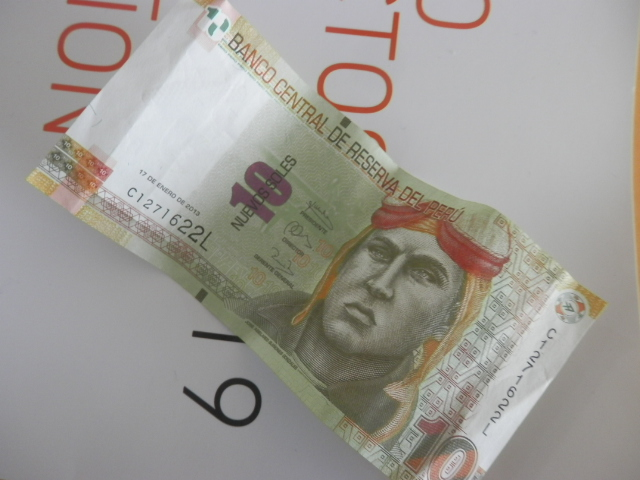B10: (39, 10, 609, 478)
